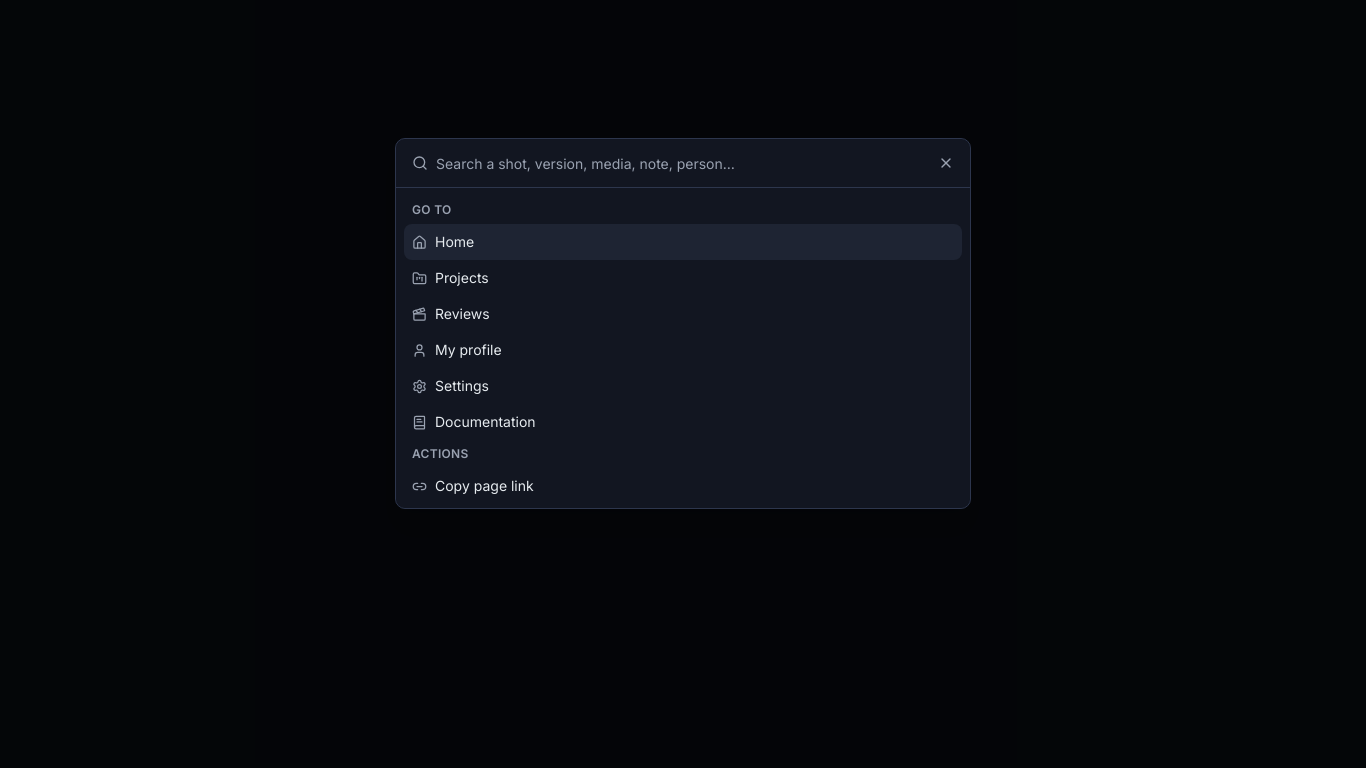
Test: CommandPalette — what one really searches for › finds a media by its file name
The image size is (1366, 768).
Type "SH0120" into the dropdown with placeholder "Search a shot, version, media, note, person…".
click(695, 163); type("SH0120")  # box [436, 139, 954, 187]
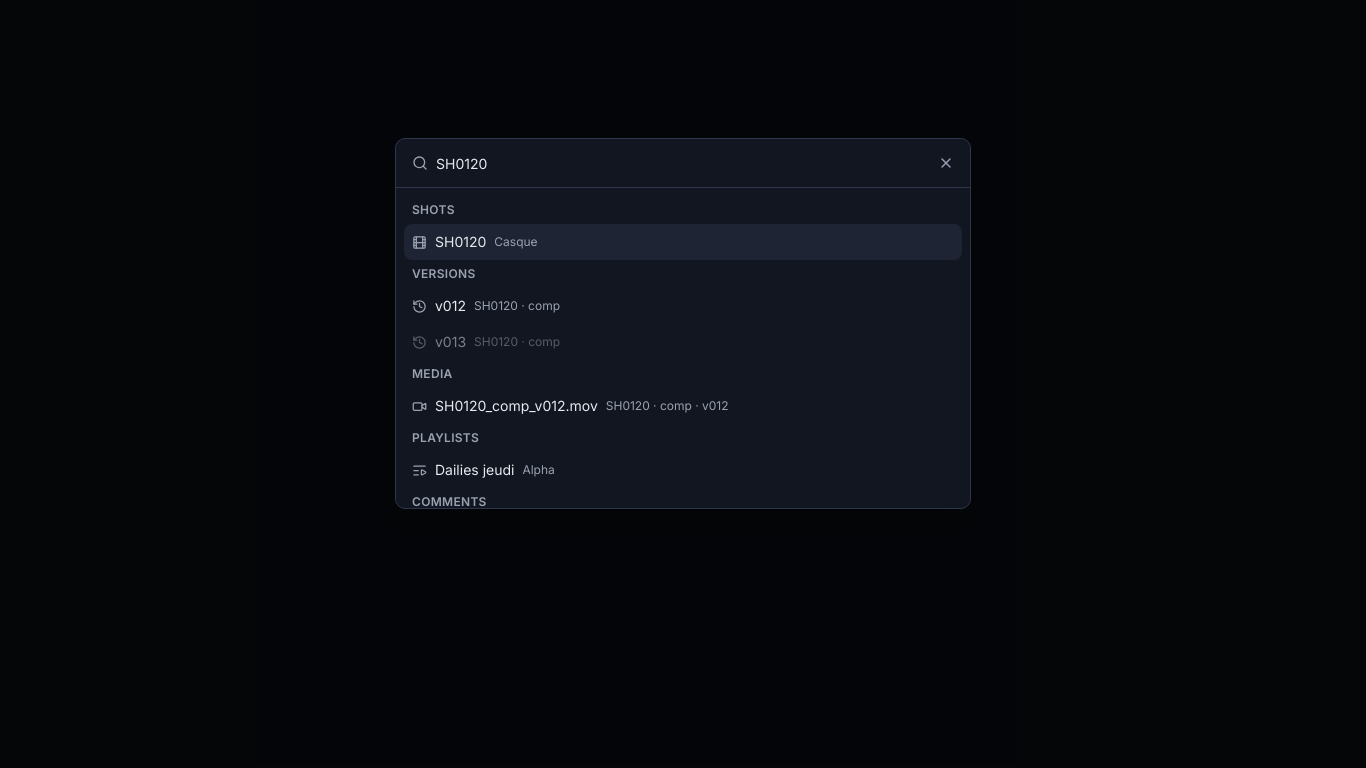
Check: the text "SH0120_comp_v012.mov" is shown, box [435, 396, 598, 416]
Check: the text "SH0120 · comp · v012" is shown, box [606, 398, 729, 414]
